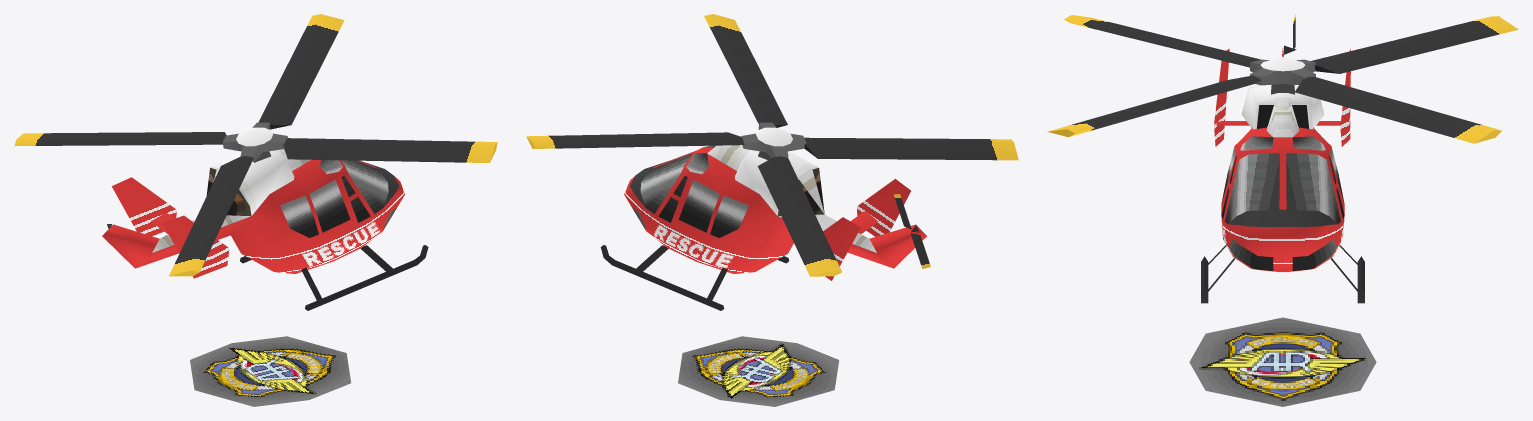
File: ps2_save-icons_airranger.glb
3 renders of one model, left to right at view 1: azimuth 30°, elevation 25°; view 2: azimuth 150°, elevation 25°; view 3: azimuth 270°, elevation 25°, orthographic. The views are drawn at different scales.
Visible parts, largest first — view 1: icon.ico; view 2: icon.ico; view 3: icon.ico.
Boxes of the visible parts, <box> form: icon.ico: <box>14,14,497,406</box>; icon.ico: <box>526,14,1018,406</box>; icon.ico: <box>1047,14,1518,406</box>.
Size of the model in its own units: 4.6 by 3.42 by 4.67.
Materials: 1 (1 with a texture image).
